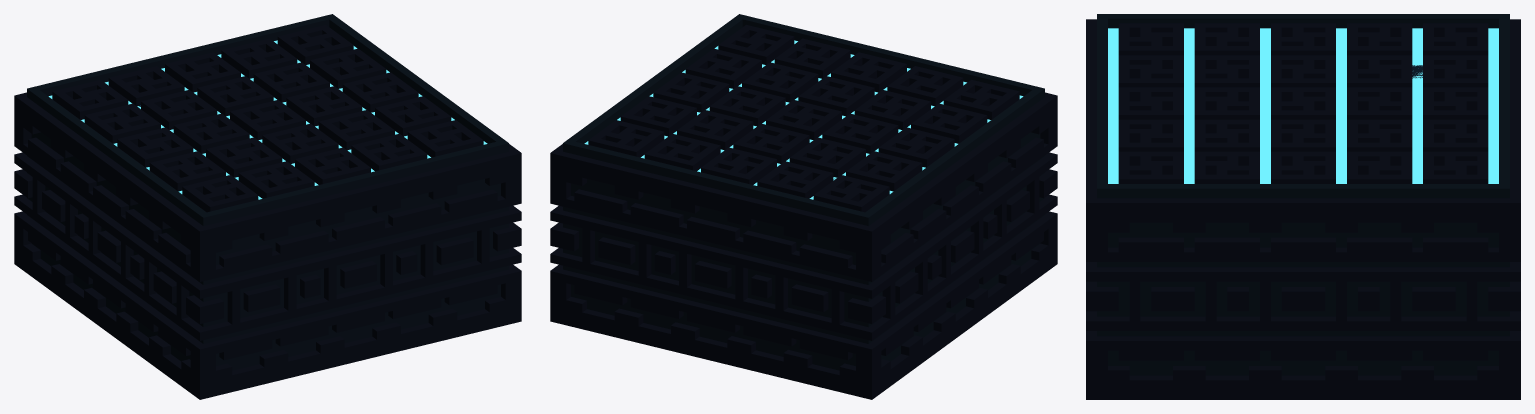
Rendered from Block_2.fbx.
The picture shows the model from 3 angles, left to right: view 1: azimuth 30°, elevation 25°; view 2: azimuth 150°, elevation 25°; view 3: azimuth 270°, elevation 25°; orthographic projection. The views are drawn at different scales.
Parts seen in each view (by area): view 1: Block_2; view 2: Block_2; view 3: Block_2.
Boxes of the visible parts, <box> form: Block_2: <box>14,14,521,399</box>; Block_2: <box>550,14,1057,399</box>; Block_2: <box>1086,14,1520,399</box>.
Size of the model in its own units: 100 by 100 by 52.5.
